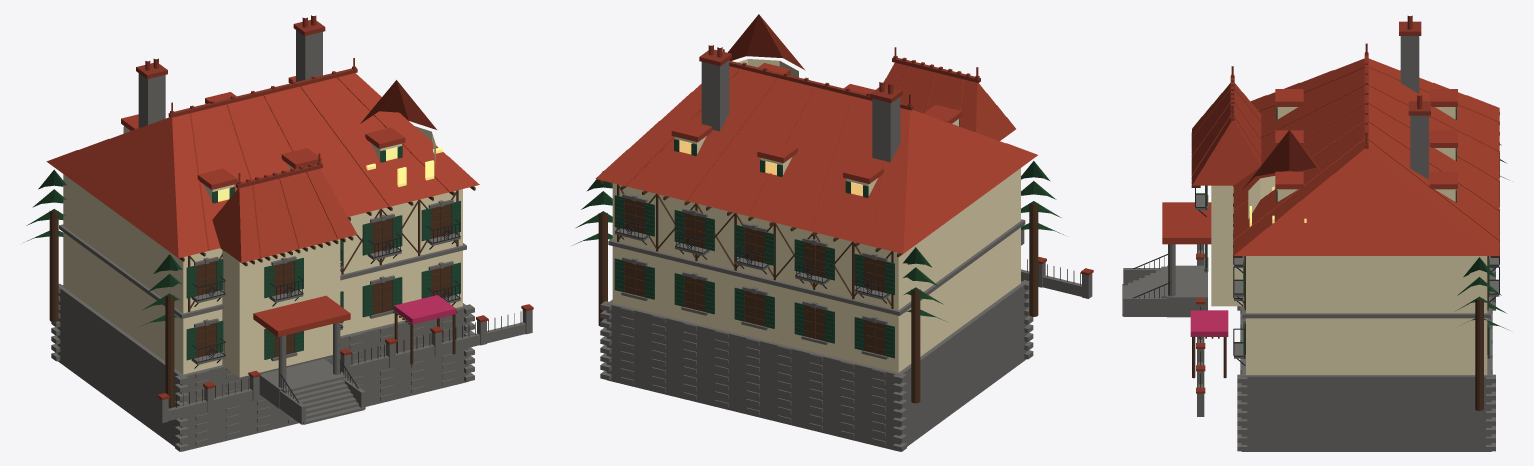
The model's file is fv_bt_08_bao_tang_lam_dong_ethnology_pavilion.glb.
The picture shows the model from 3 angles, left to right: view 1: azimuth 30°, elevation 25°; view 2: azimuth 150°, elevation 25°; view 3: azimuth 270°, elevation 25°; orthographic projection. The views are drawn at different scales.
Visible parts, largest first — view 1: marseille_corrugated_roof_tiles, granite_foundation_and_stairs, stucco_facade_and_dormers, colombage_timber_and_eaves, pine_green_louvered_shutters, ridge_cresting_and_chimneys, wrought_iron_balconies_3d, pine_trees_and_garden_hedges, bougainvillea_pergola_clusters, warm_night_windows_ffb86c; view 2: marseille_corrugated_roof_tiles, granite_foundation_and_stairs, stucco_facade_and_dormers, colombage_timber_and_eaves, pine_green_louvered_shutters, ridge_cresting_and_chimneys, pine_trees_and_garden_hedges, wrought_iron_balconies_3d; view 3: marseille_corrugated_roof_tiles, stucco_facade_and_dormers, granite_foundation_and_stairs, colombage_timber_and_eaves, ridge_cresting_and_chimneys, bougainvillea_pergola_clusters, wrought_iron_balconies_3d, pine_trees_and_garden_hedges, pine_green_louvered_shutters.
Part boxes in pixels (x1=…): marseille_corrugated_roof_tiles: x1=46, y1=73, x2=479, y2=337; granite_foundation_and_stairs: x1=51, y1=30, x2=532, y2=451; stucco_facade_and_dormers: x1=63, y1=126, x2=462, y2=377; colombage_timber_and_eaves: x1=49, y1=186, x2=475, y2=406; pine_green_louvered_shutters: x1=123, y1=127, x2=460, y2=360; ridge_cresting_and_chimneys: x1=136, y1=15, x2=533, y2=400; wrought_iron_balconies_3d: x1=170, y1=219, x2=521, y2=409; pine_trees_and_garden_hedges: x1=23, y1=169, x2=182, y2=326; bougainvillea_pergola_clusters: x1=394, y1=295, x2=456, y2=324; warm_night_windows_ffb86c: x1=218, y1=147, x2=442, y2=201; marseille_corrugated_roof_tiles: x1=595, y1=14, x2=1037, y2=253; granite_foundation_and_stairs: x1=600, y1=60, x2=1092, y2=451; stucco_facade_and_dormers: x1=612, y1=59, x2=1020, y2=372; colombage_timber_and_eaves: x1=598, y1=180, x2=1038, y2=403; pine_green_louvered_shutters: x1=614, y1=119, x2=959, y2=358; ridge_cresting_and_chimneys: x1=699, y1=45, x2=1093, y2=275; pine_trees_and_garden_hedges: x1=572, y1=161, x2=1065, y2=321; wrought_iron_balconies_3d: x1=615, y1=214, x2=1080, y2=303; marseille_corrugated_roof_tiles: x1=1162, y1=58, x2=1499, y2=255; stucco_facade_and_dormers: x1=1211, y1=107, x2=1487, y2=374; granite_foundation_and_stairs: x1=1122, y1=36, x2=1499, y2=451; colombage_timber_and_eaves: x1=1191, y1=112, x2=1499, y2=410; ridge_cresting_and_chimneys: x1=1196, y1=15, x2=1430, y2=393; bougainvillea_pergola_clusters: x1=1190, y1=310, x2=1228, y2=336; wrought_iron_balconies_3d: x1=1132, y1=156, x2=1499, y2=387; pine_trees_and_garden_hedges: x1=1455, y1=144, x2=1510, y2=330; pine_green_louvered_shutters: x1=1205, y1=107, x2=1489, y2=358.
Bounding box in the file's own units: 24.93 × 20.23 × 22.74.
